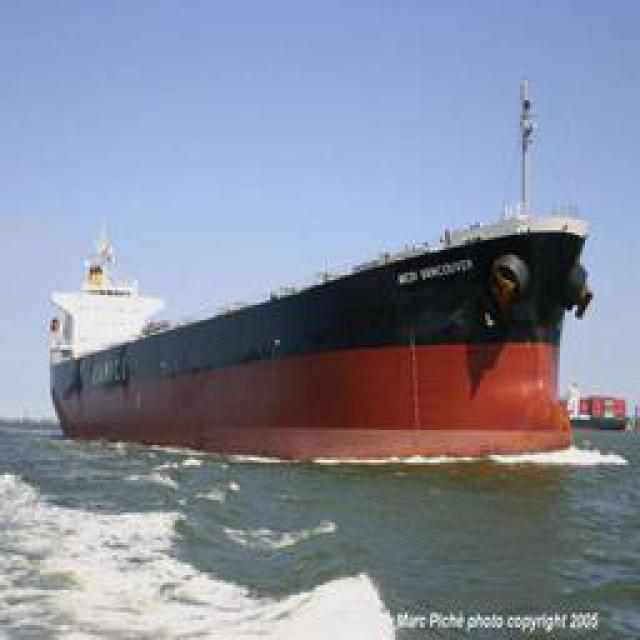Ship: (52, 173, 600, 458)
